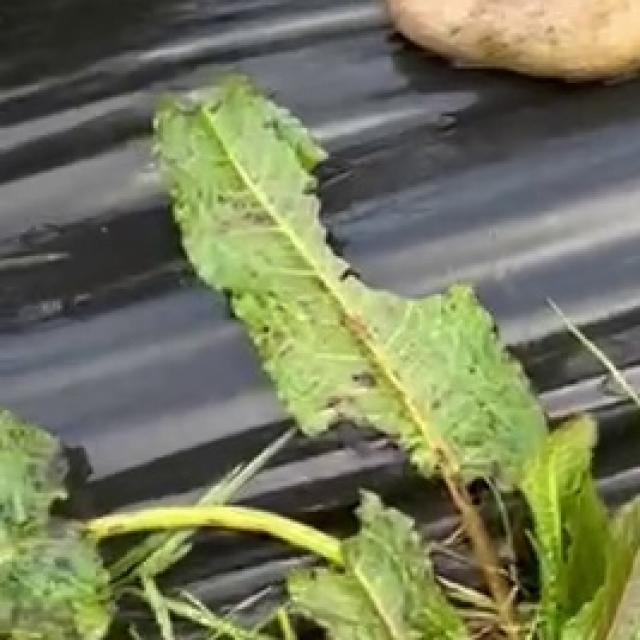organic waste: (55, 80, 640, 640)
